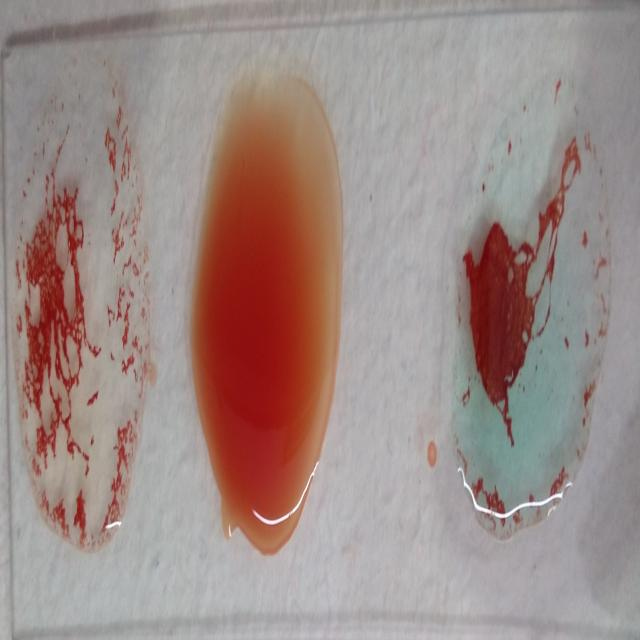A: (454, 77, 608, 538)
D: (10, 80, 148, 557)
